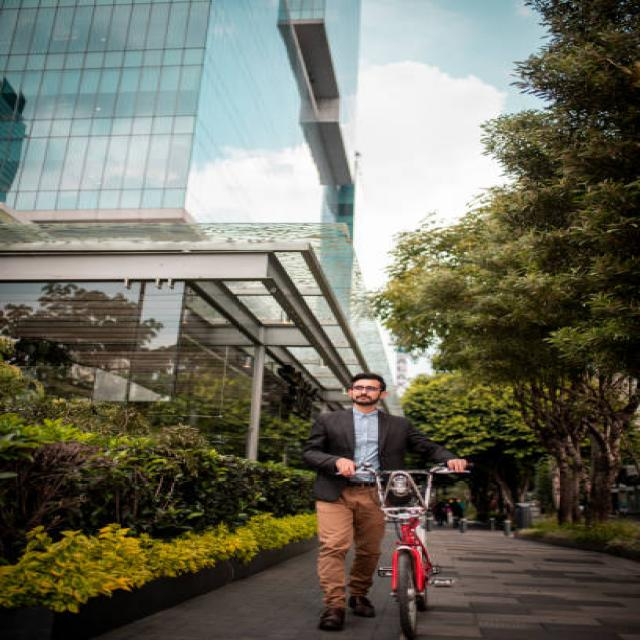bicycle: (302, 372, 468, 638)
